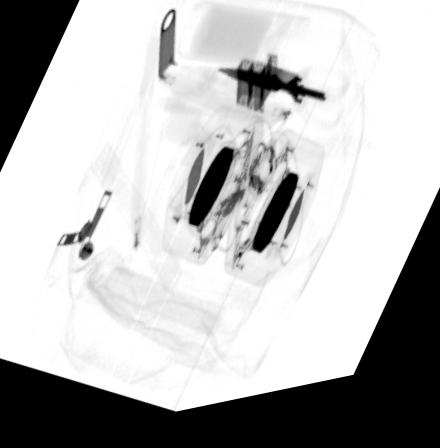Scissors: (216, 65, 349, 152)
